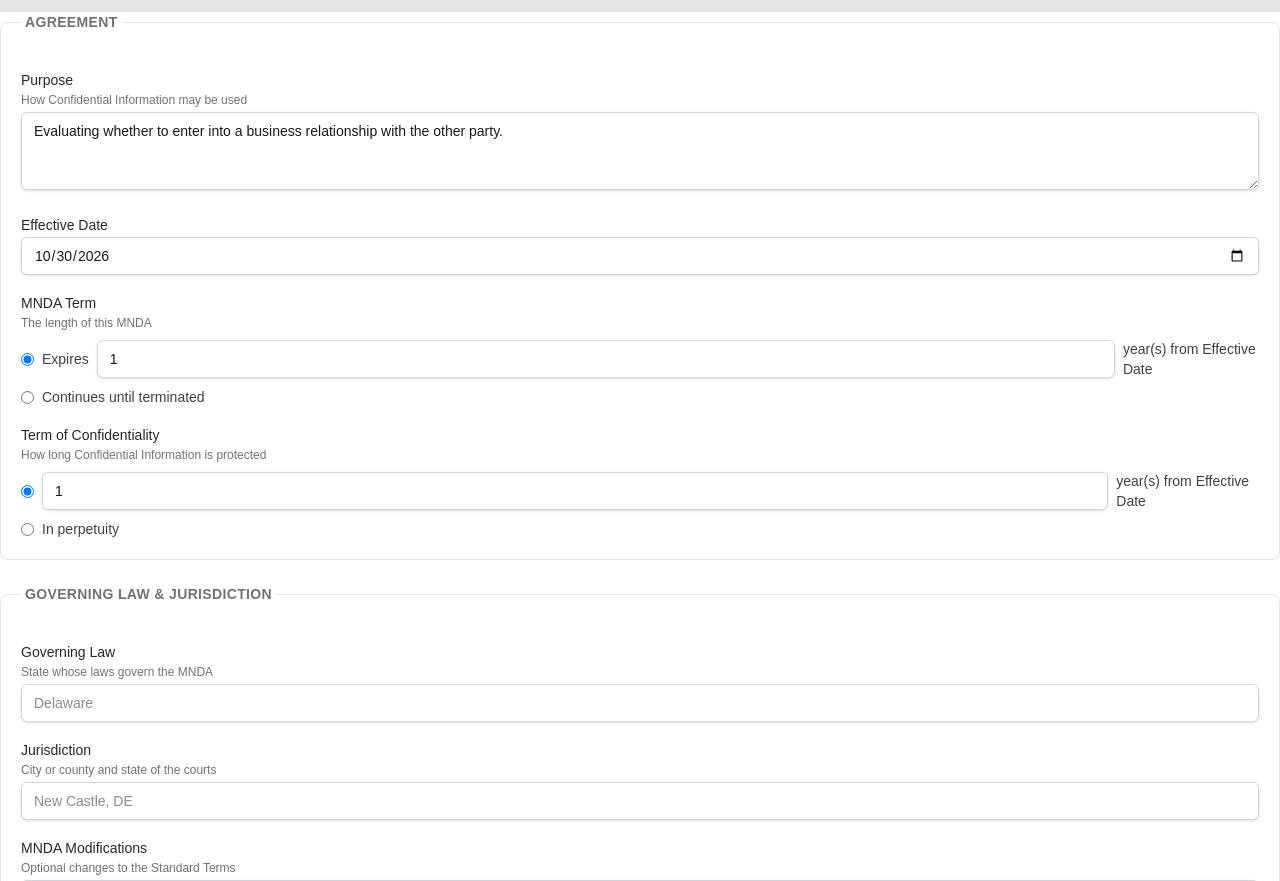
Test: NdaForm term years › ignores non-digits and reverts to the last valid value on blur
Replace the text in the field named "MNDA term in years" with "2.5e": (606, 359) left=97, top=340, right=1115, bottom=378
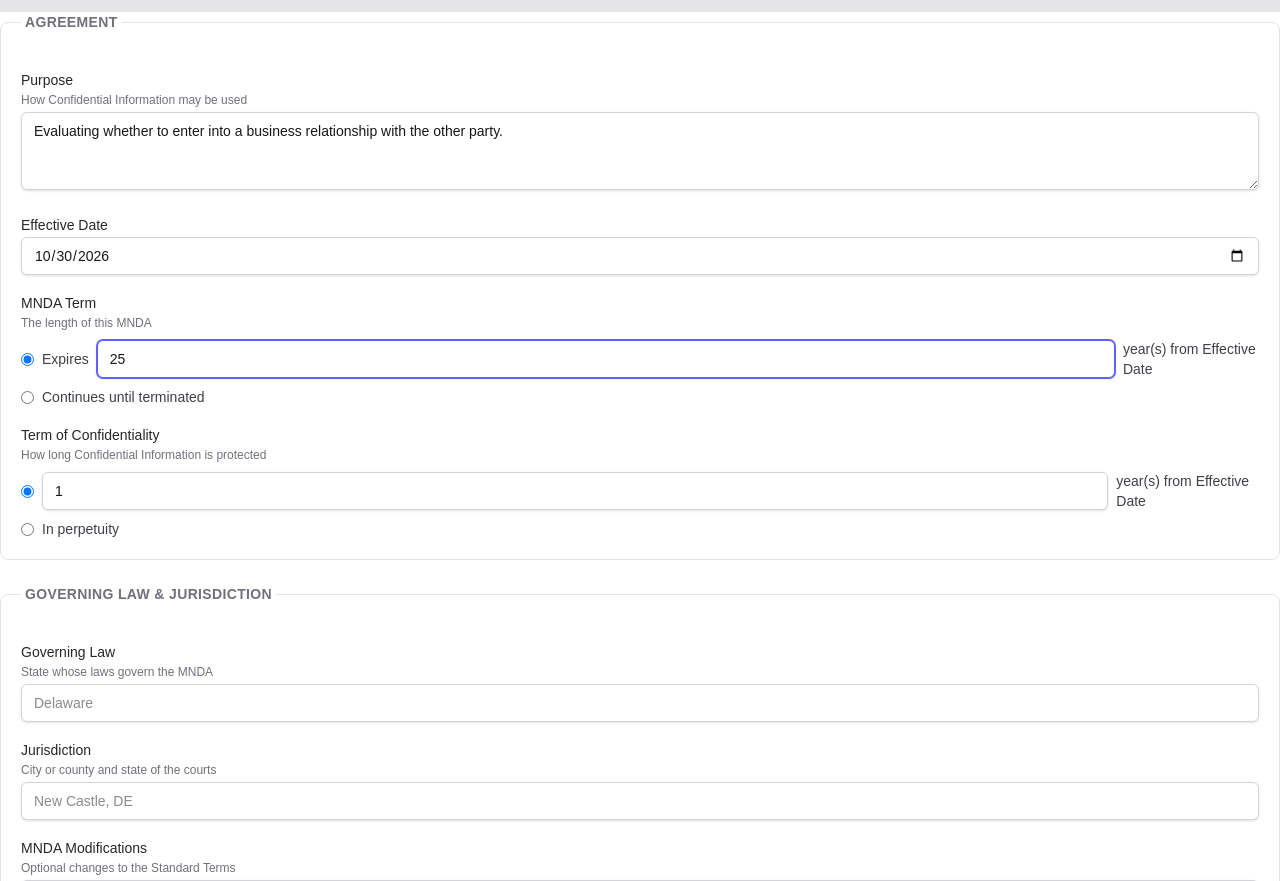
Check: the field named "MNDA term in years" holds "25"
Replace the text in the field named "MNDA term in years" with "0": (606, 359) left=97, top=340, right=1115, bottom=378
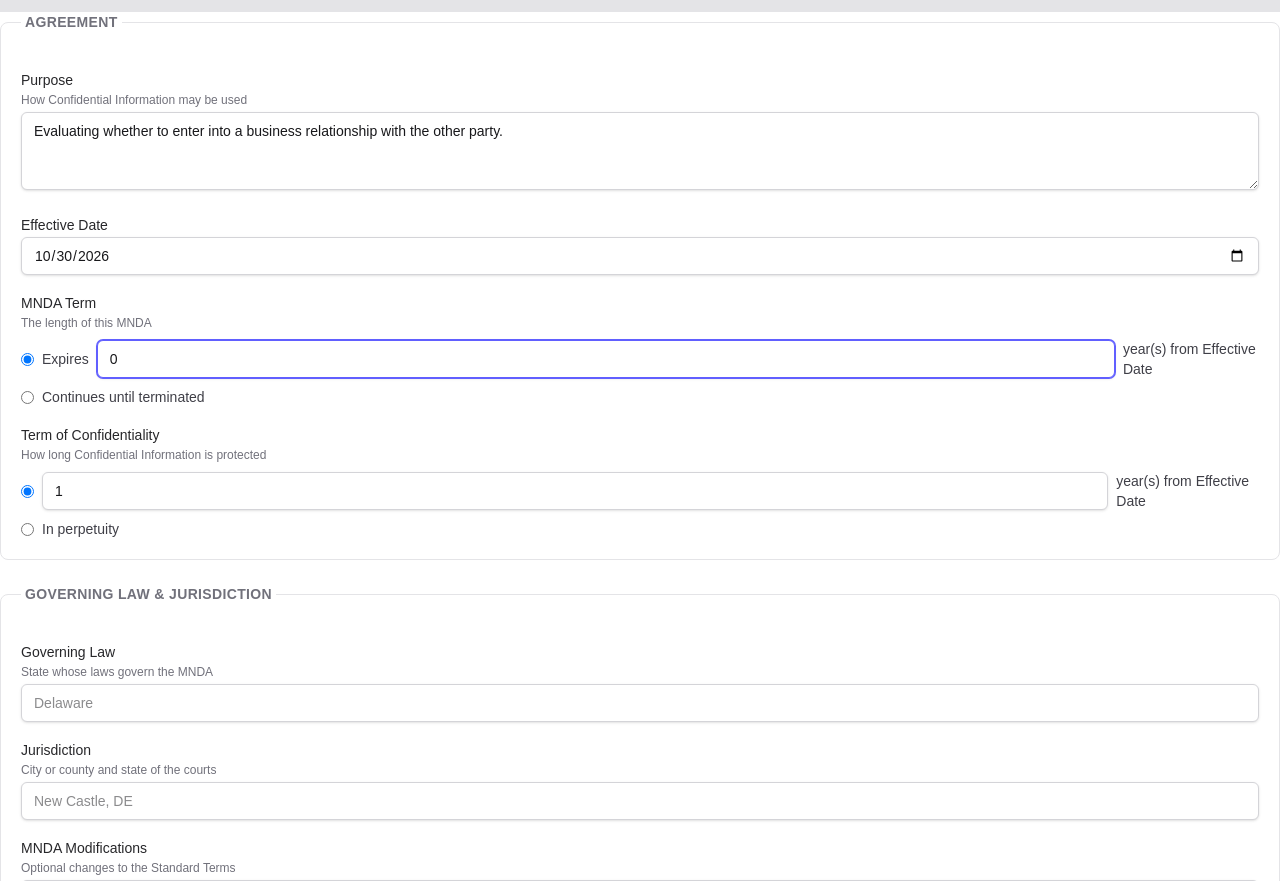
Press Tab
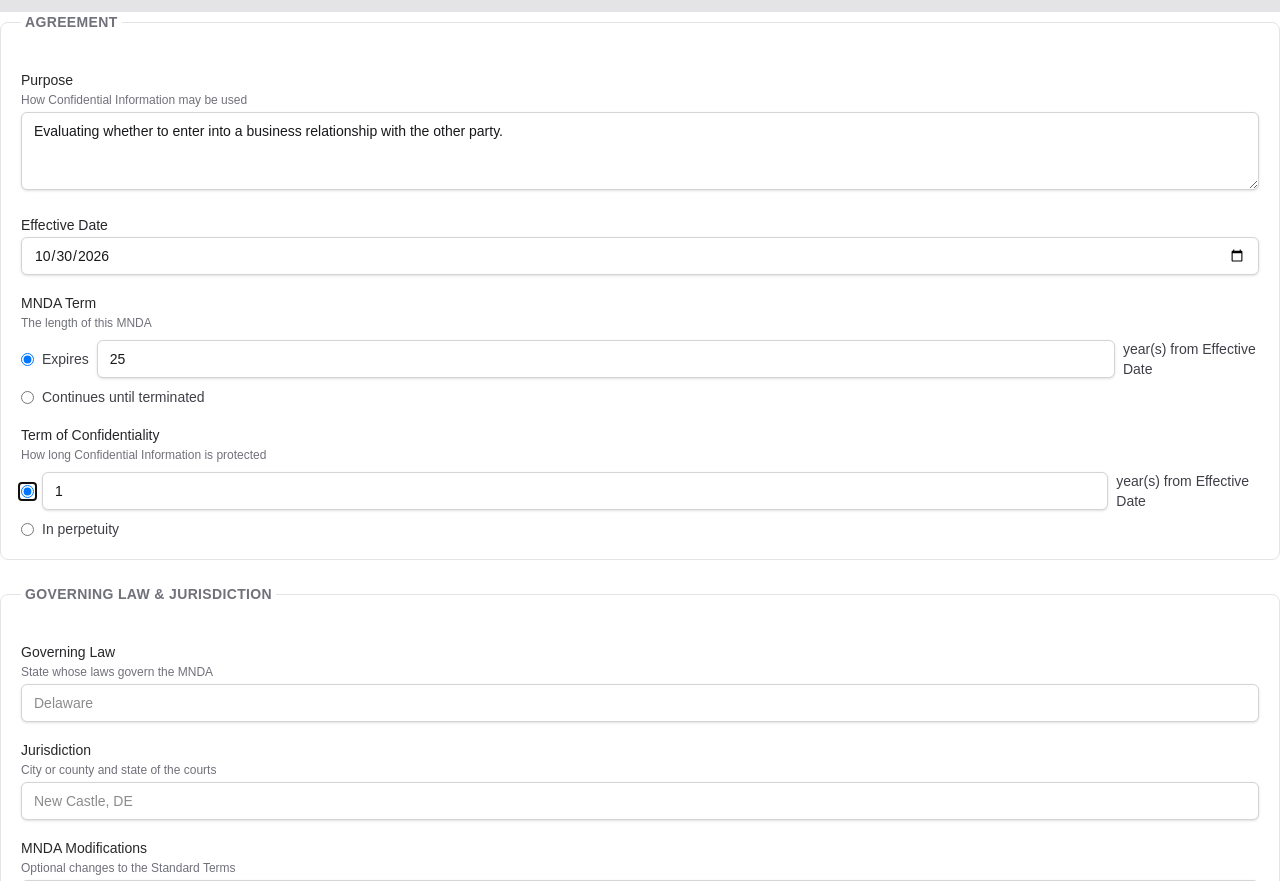
Check: the field named "MNDA term in years" holds "25", box left=97, top=340, right=1115, bottom=378
